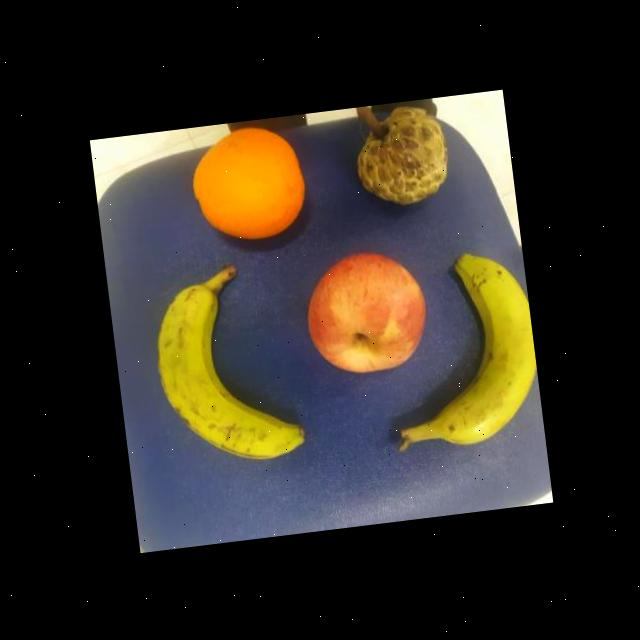Sakya fruit: (341, 96, 453, 208)
apple: (296, 244, 434, 380)
banana: (141, 268, 310, 472), (406, 242, 544, 449)
orange: (182, 120, 310, 246)
